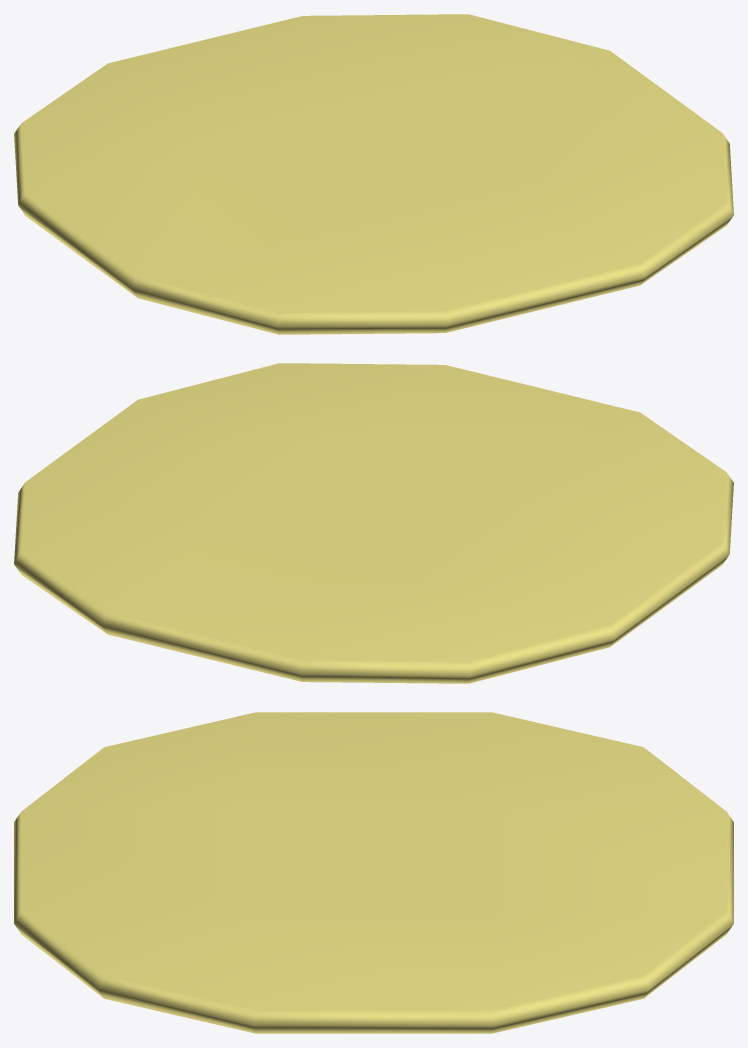
Rendered from tacosBase.fbx.
3 renders of one model, top to bottom at view 1: azimuth 30°, elevation 25°; view 2: azimuth 150°, elevation 25°; view 3: azimuth 270°, elevation 25°, orthographic. The views are drawn at different scales.
Parts seen in each view (by area): view 1: Cube; view 2: Cube; view 3: Cube.
Boxes of the visible parts, <box> form: Cube: <box>14,14,733,334</box>; Cube: <box>14,363,733,683</box>; Cube: <box>14,712,733,1033</box>.
Bounding box in the file's own units: 140 × 140 × 5.05.
